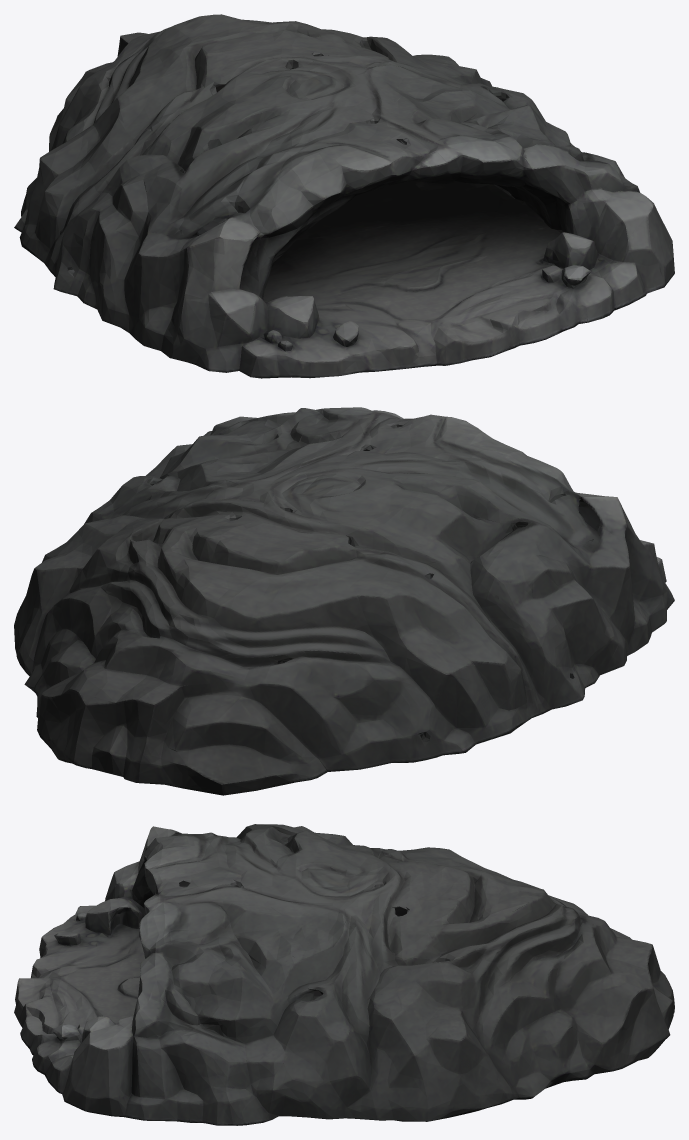
3 views of the same model, one above another, from view 1: azimuth 30°, elevation 25°; view 2: azimuth 150°, elevation 25°; view 3: azimuth 270°, elevation 25° (orthographic). The views are drawn at different scales.
Visible parts, largest first — view 1: world; view 2: world; view 3: world.
Boxes of the visible parts, left/top/right/bottom form: world: left=14, top=14, right=674, bottom=378; world: left=14, top=407, right=674, bottom=795; world: left=14, top=824, right=674, bottom=1125.
Bounding box in the file's own units: 0.8157 × 0.251 × 1.
1 material, 1 textured.
